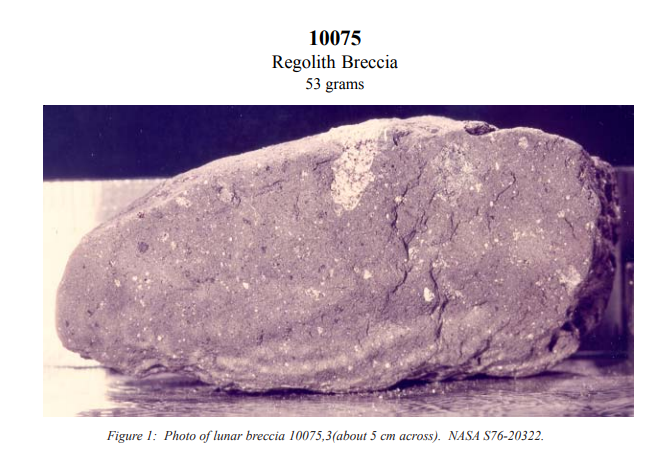Breccia: (43, 107, 622, 414)
